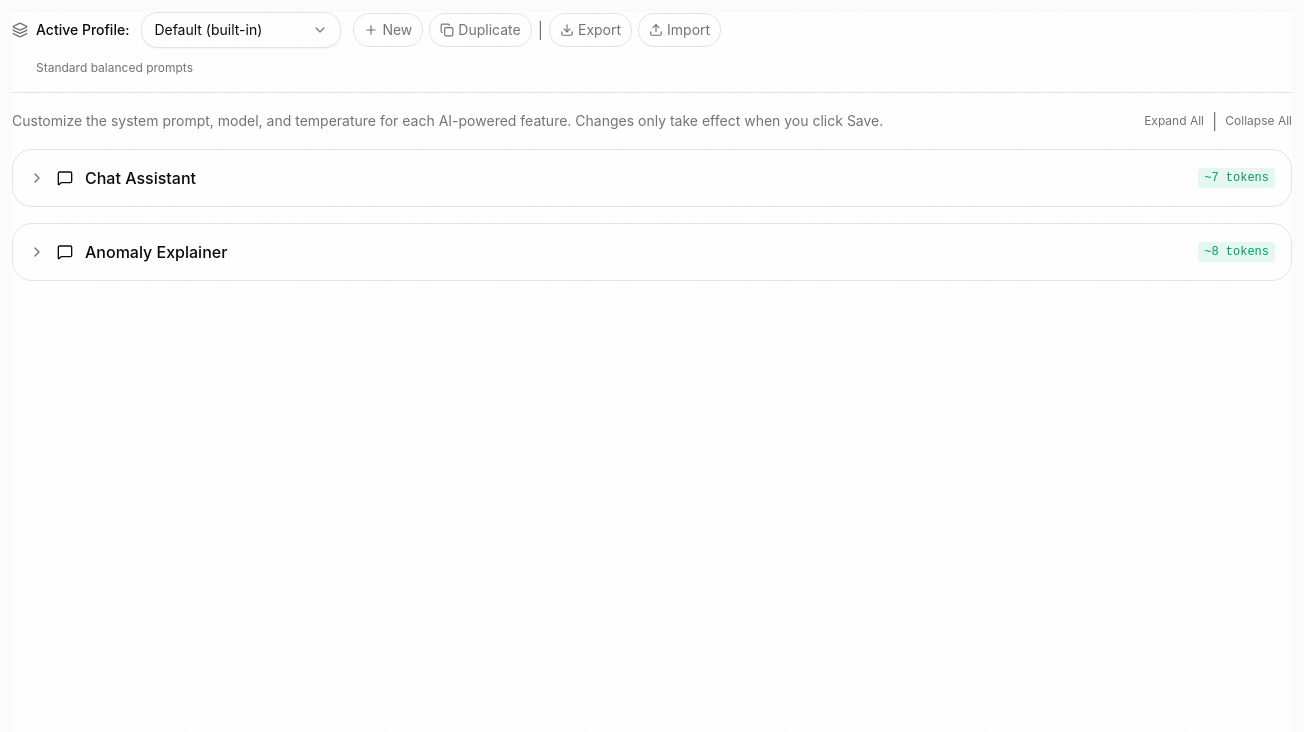
Test: AiPromptsTab › editing prompt shows unsaved badge and save bar
# Expand the feature
Click the text "Chat Assistant". click: (140, 178)
box: x1=85 y1=166 x2=196 y2=190
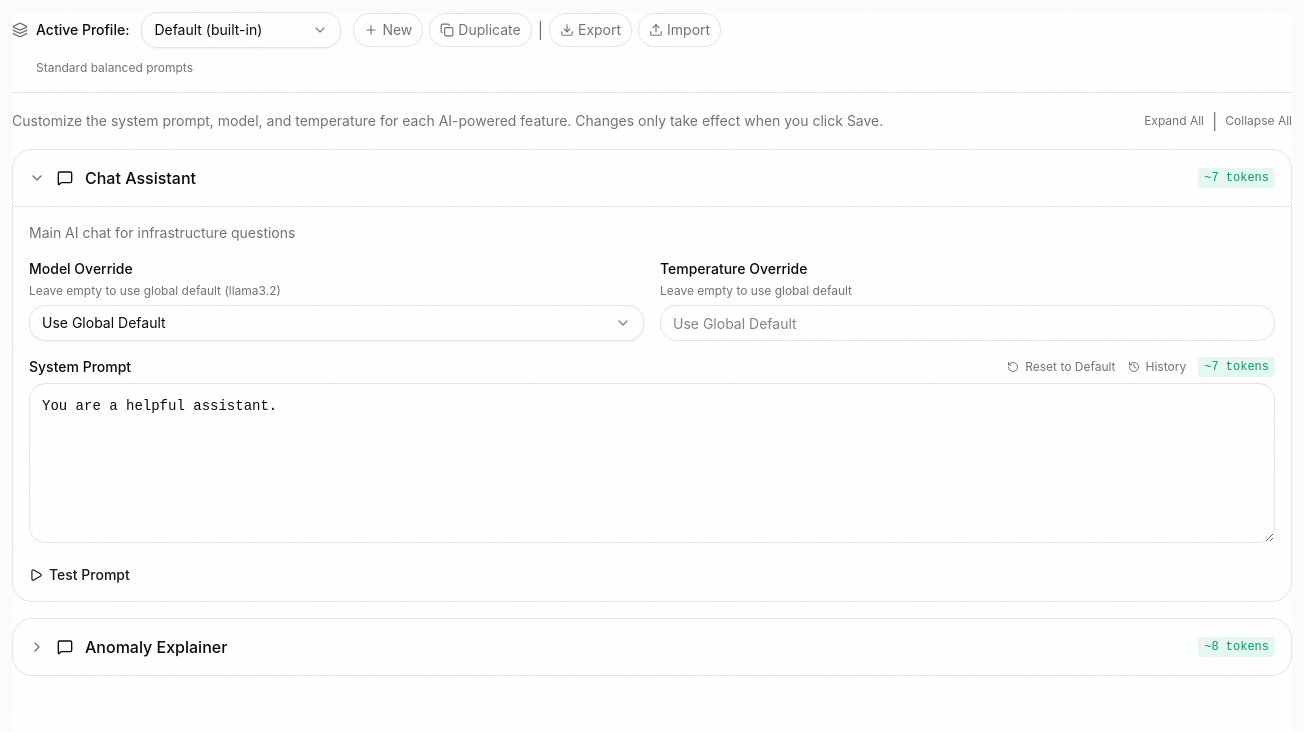
Expected: the text box showing "You are a helpful assistant." is shown
# Edit the prompt
Replace the text in the text box showing "You are a helpful assistant." with "Custom prompt". click: (652, 463)
box: x1=29 y1=383 x2=1275 y2=543
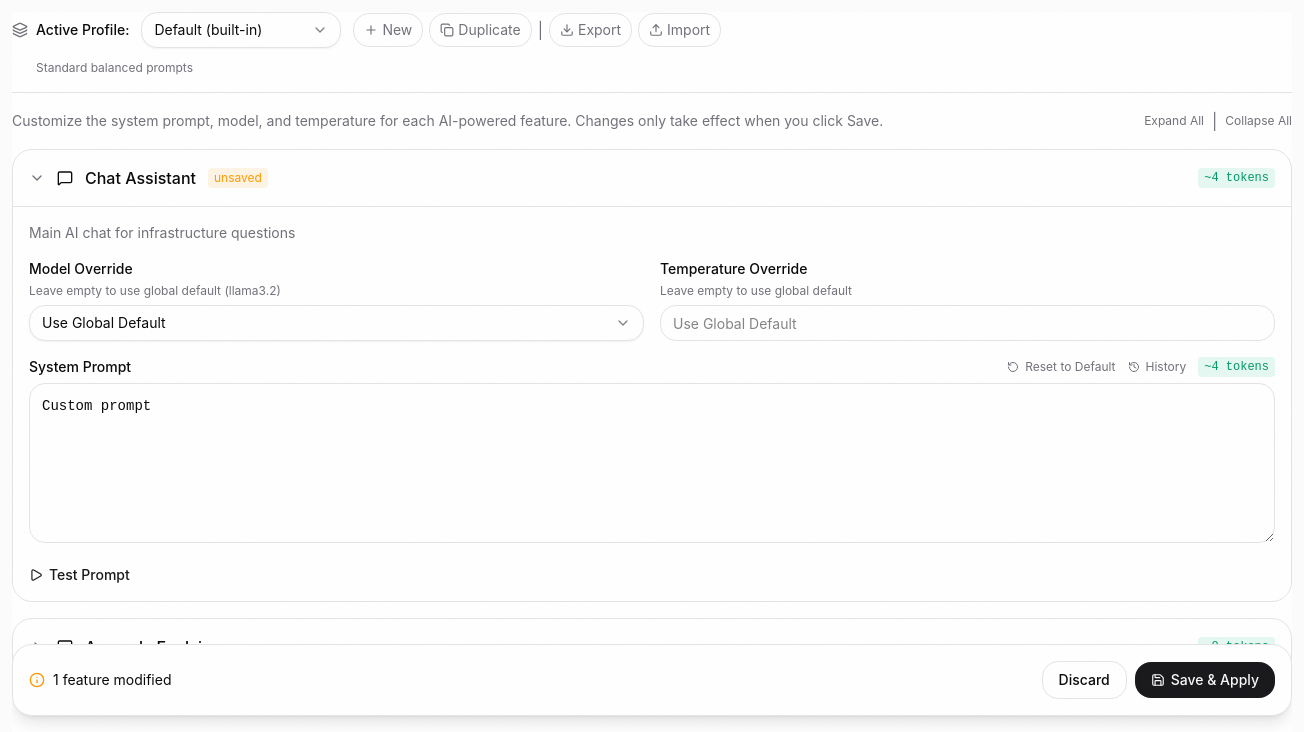
Expected: the text "unsaved" is shown, x1=208 y1=168 x2=268 y2=188
Expected: the button "Save & Apply" is shown, x1=1135 y1=662 x2=1275 y2=698
Expected: the button "Discard" is shown, x1=1042 y1=661 x2=1127 y2=699
